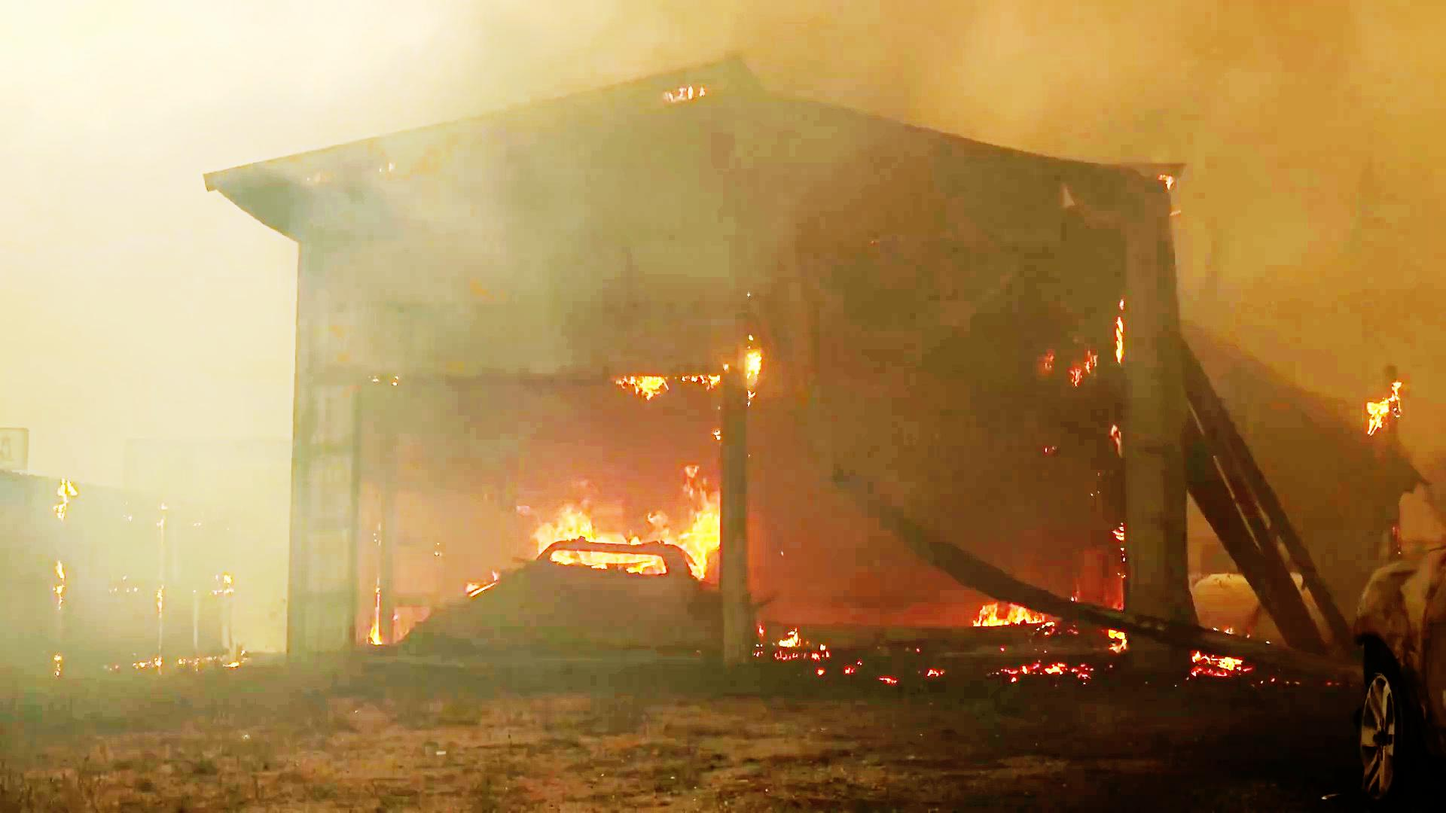fire: (811, 8, 1011, 126), (531, 469, 730, 568)
